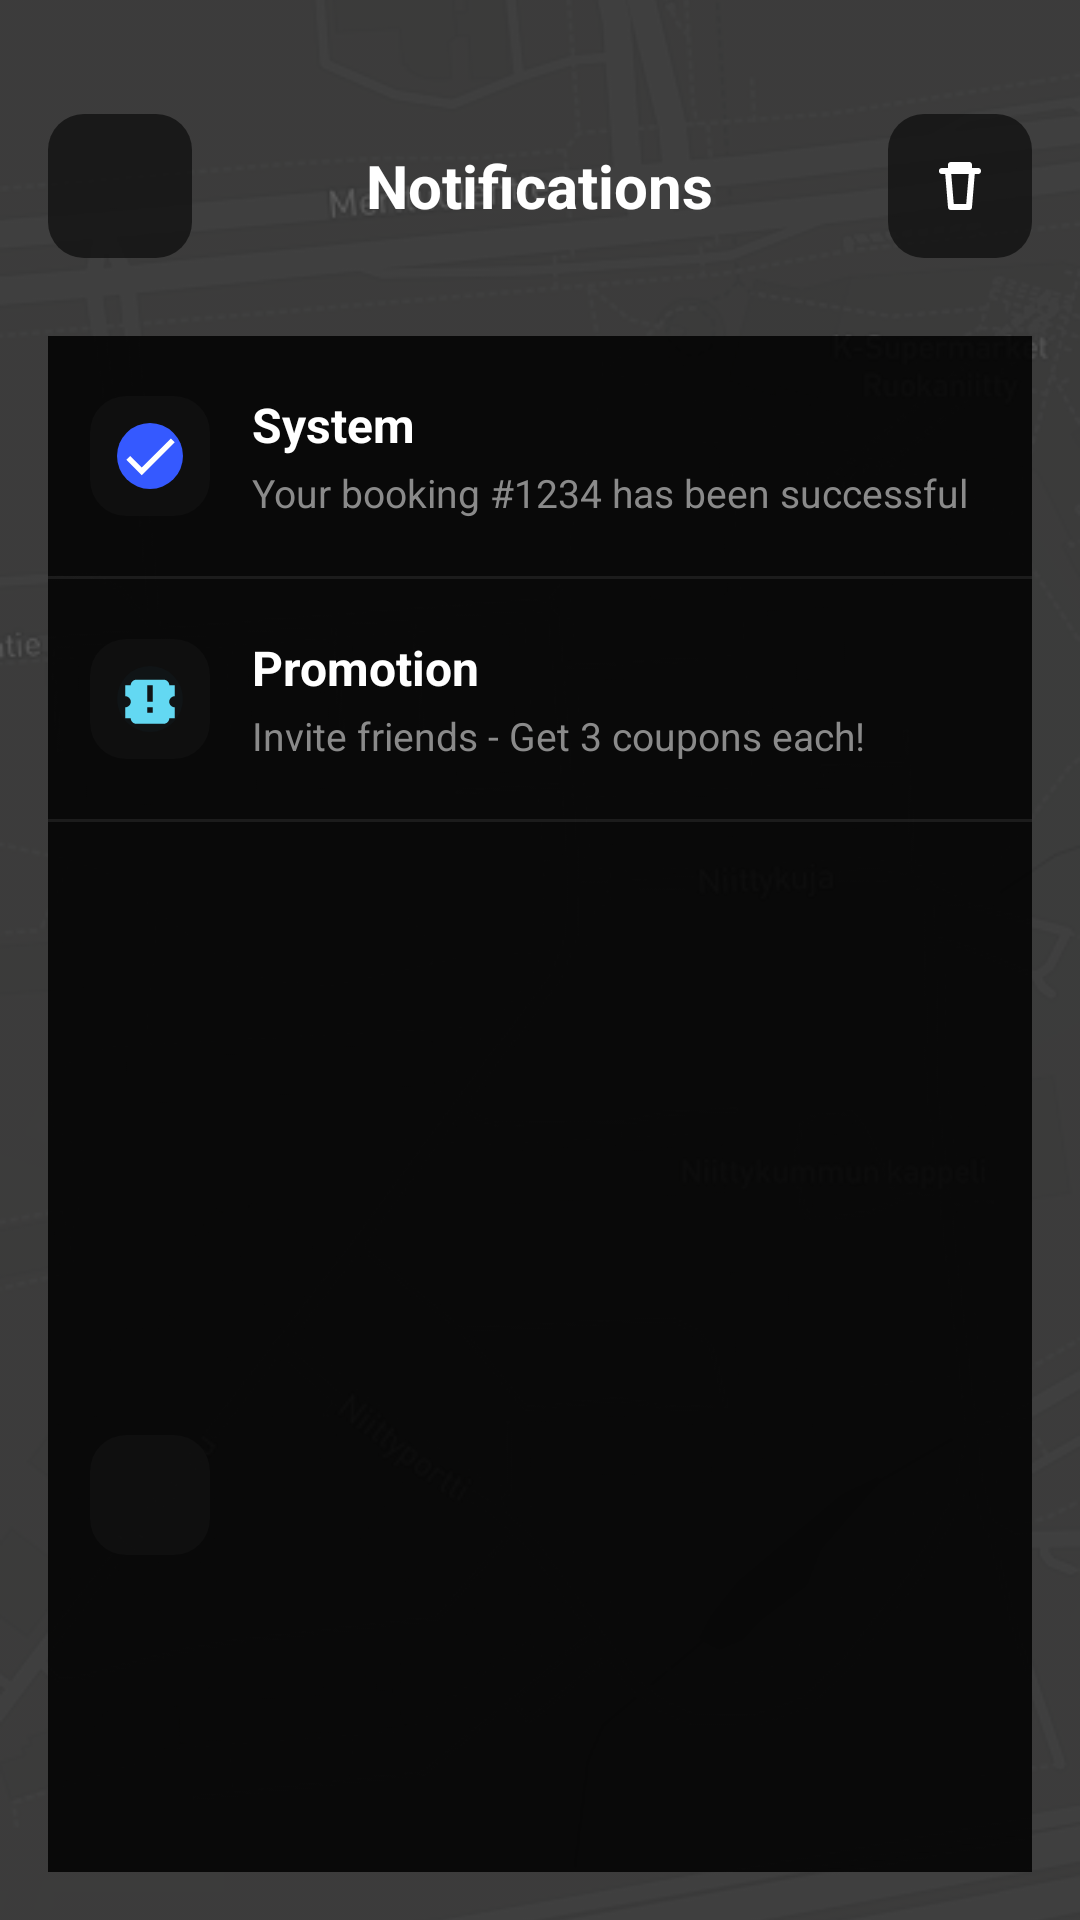

Where icons sit on this 1080 × 1920 app screen, as (x1, y1, x2, y2):
Delete: (888, 114, 1032, 258)
settings check: (117, 423, 183, 489)
settings ticket: (125, 679, 175, 724)
